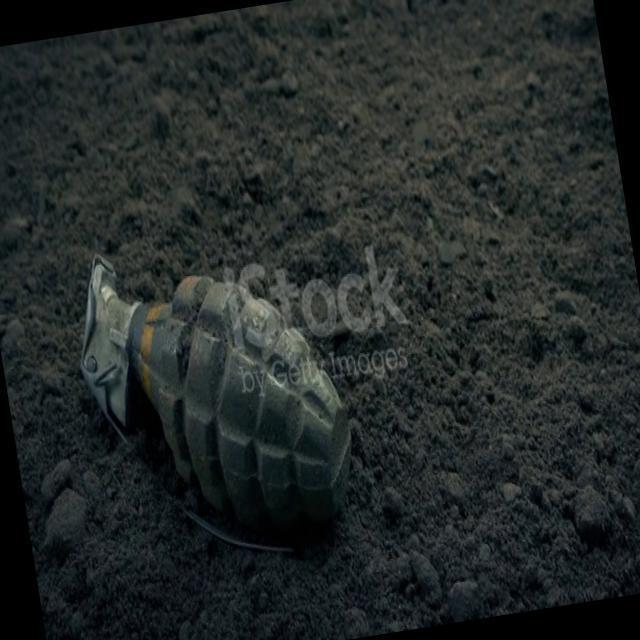grenade: (61, 206, 370, 588)
